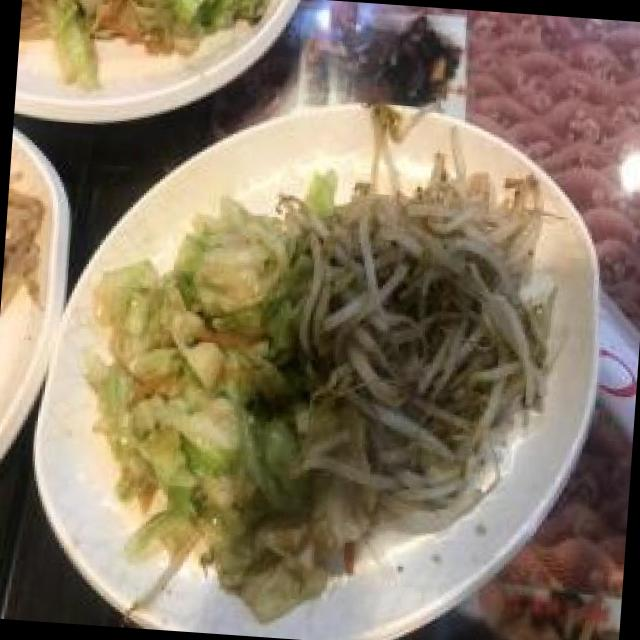chinese_cabbage: (67, 149, 328, 619), (46, 0, 262, 95)
mung_bean_sprouts: (300, 130, 573, 548)
